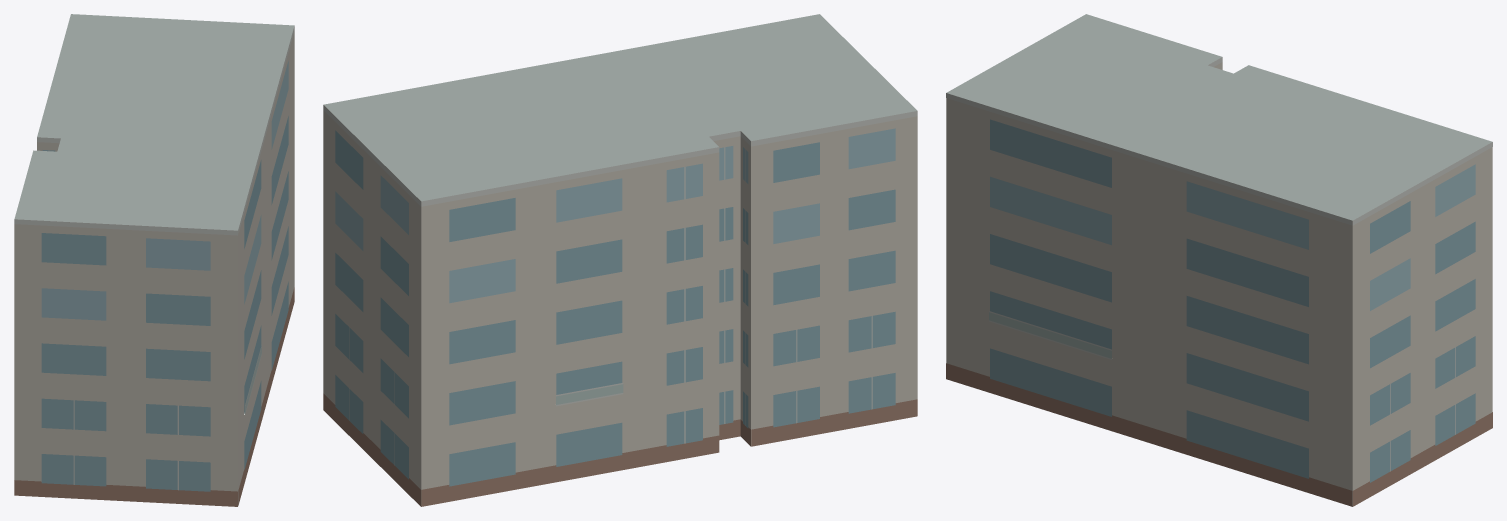
File: survey-upis-32616051.glb
3 renders of one model, left to right at view 1: azimuth 30°, elevation 25°; view 2: azimuth 150°, elevation 25°; view 3: azimuth 270°, elevation 25°, orthographic. The views are drawn at different scales.
Visible parts, largest first — view 1: survey-upis-32616051.tmp; view 2: survey-upis-32616051.tmp; view 3: survey-upis-32616051.tmp.
Part boxes in pixels (<box>): survey-upis-32616051.tmp: <box>14,14,294,506</box>; survey-upis-32616051.tmp: <box>323,14,917,506</box>; survey-upis-32616051.tmp: <box>946,14,1492,506</box>.
Bounding box in the file's own units: 21.54 × 13.9 × 24.07.
